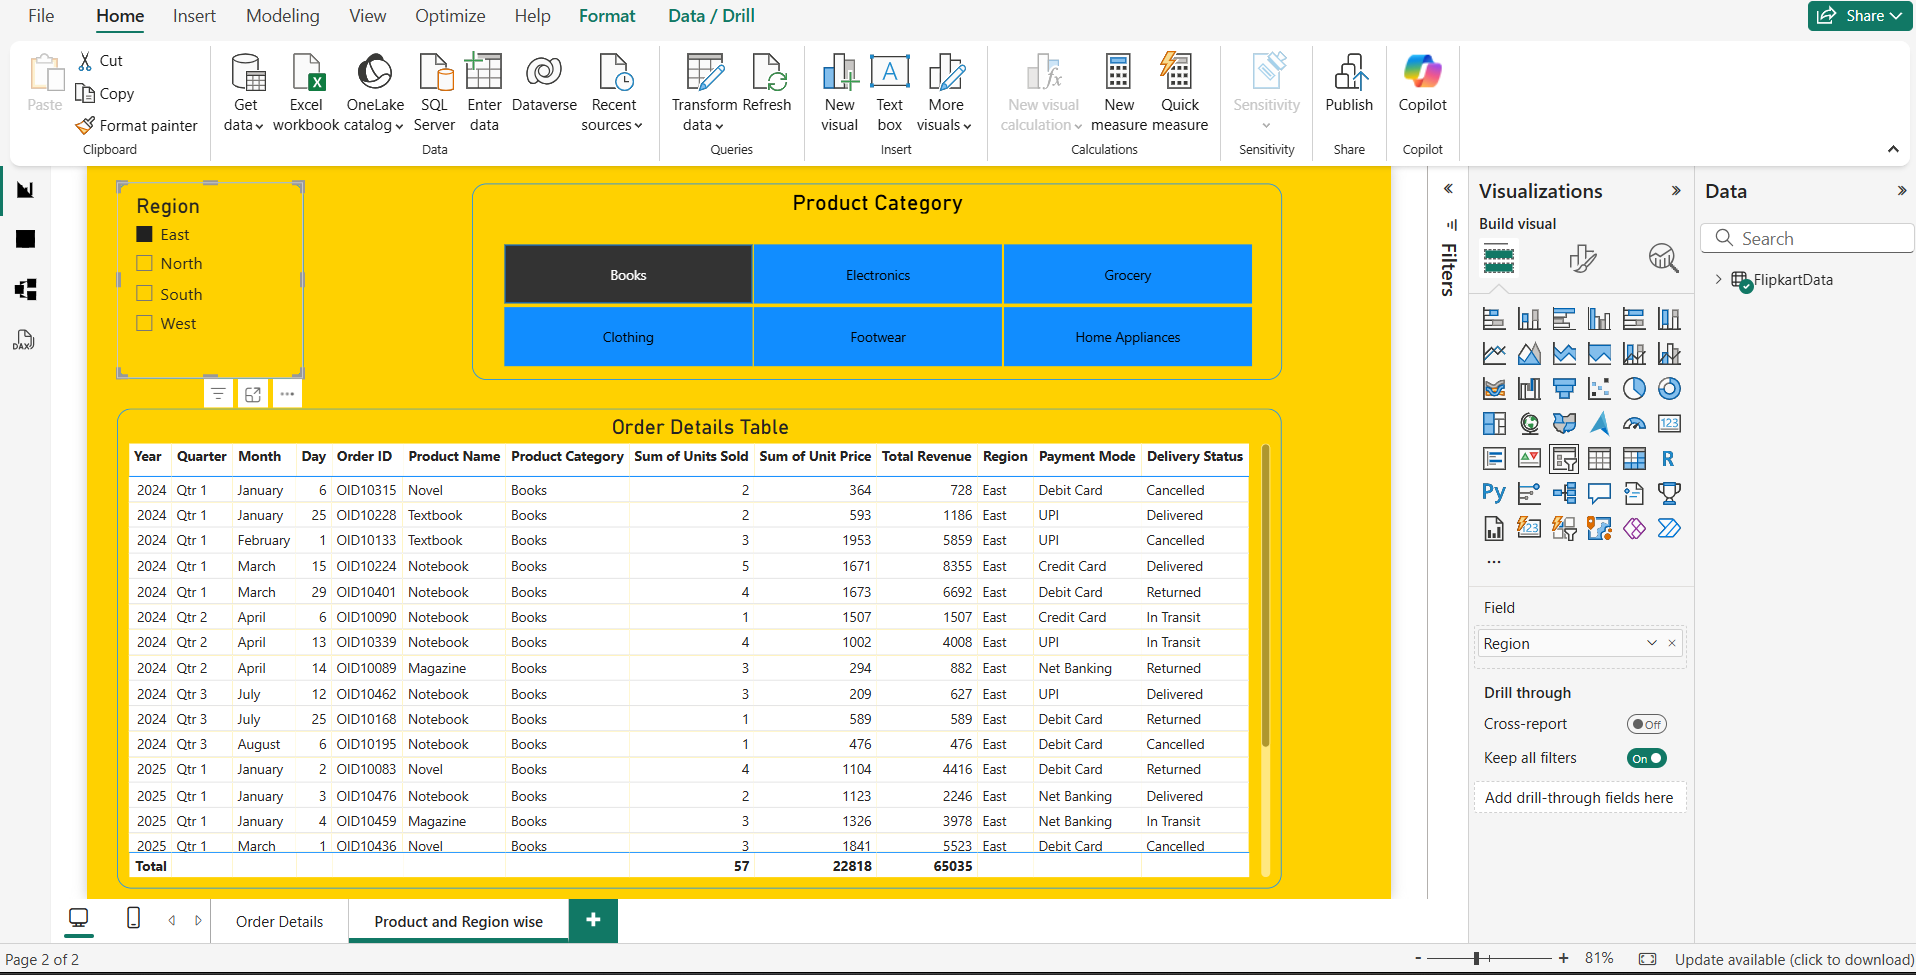

This screenshot's page, from the dashboard's own definition file:
{"tool":"powerbi","page":{"name":"Product and Region wise ","canvas":[1280,720],"ordinal":1},"visuals":[{"type":"tableEx","title":"Order Details Table","fields":{"Values":["FlipkartData.Date.Variation.Date Hierarchy.Year","FlipkartData.Date.Variation.Date Hierarchy.Quarter","FlipkartData.Date.Variation.Date Hierarchy.Month","FlipkartData.Date.Variation.Date Hierarchy.Day","FlipkartData.Order ID","FlipkartData.Product Name","FlipkartData.Product Category","Sum(FlipkartData.Units Sold)","Sum(FlipkartData.Unit Price)","FlipkartData.Total Revenue","FlipkartData.Region","FlipkartData.Payment Mode"]},"box":[29.4,238,1143.6,471.2],"z":0},{"type":"slicer","fields":{"Values":["FlipkartData.Region"]},"box":[29.4,16,182.8,192.6],"z":1000},{"type":"slicer","title":"Product Category","fields":{"Values":["FlipkartData.Product Category"]},"box":[377.9,17.2,795.1,192.6],"z":2000}]}

Visuals, with their boxes on the page's 1280x720 design canvas (x1, y1, x2, y2). These are canvas units, not pixel positions in the 1916x975 screenshot, which may show the page scaled, cropped or inside an application window:
"Order Details Table" tableEx: x1=29 y1=238 x2=1173 y2=709
slicer - FlipkartData.Region: x1=29 y1=16 x2=212 y2=209
"Product Category" slicer: x1=378 y1=17 x2=1173 y2=210
